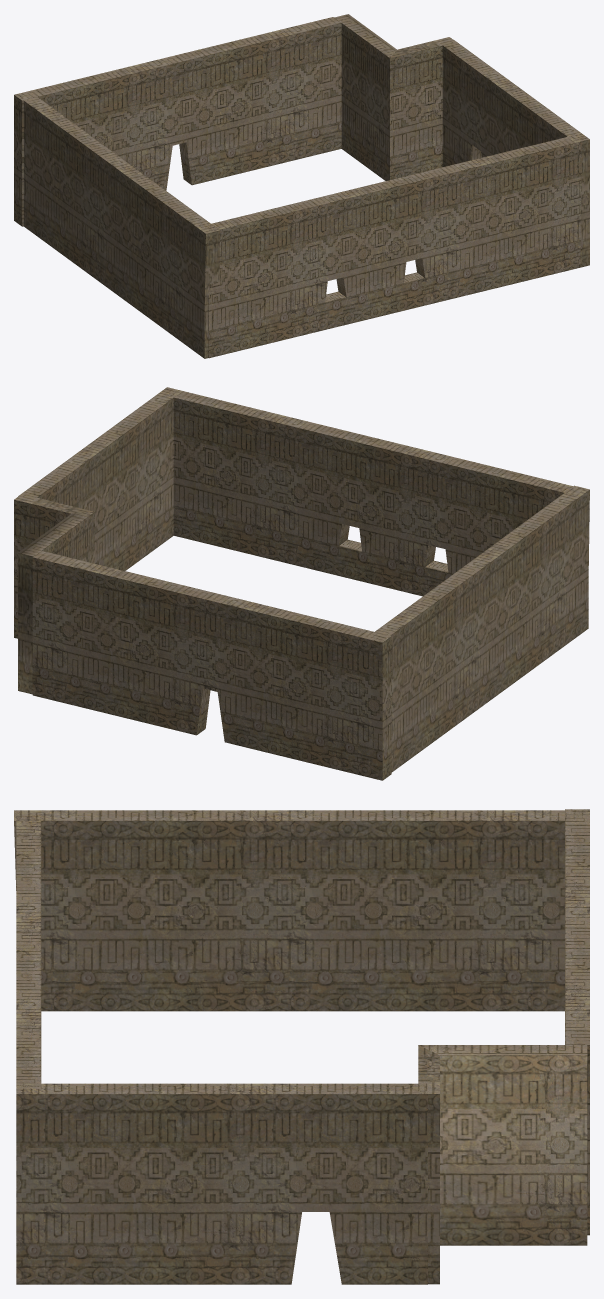
File: murs.FBX
3 views of the same model, one above another, from view 1: azimuth 30°, elevation 25°; view 2: azimuth 150°, elevation 25°; view 3: azimuth 270°, elevation 25° (orthographic). The views are drawn at different scales.
Parts seen in each view (by area): view 1: Box022, Box012, Box017, Box015, Box014, Object038; view 2: Box012, Box022, Box017, Box015, Box014, Object038; view 3: Box017, Box015, Box014, Box022, Box012, Object038.
Part boxes in pixels (<box>): Box022: <box>202,135,582,358</box>; Box012: <box>14,17,341,226</box>; Box017: <box>23,97,220,358</box>; Box015: <box>440,39,589,267</box>; Box014: <box>334,14,396,180</box>; Object038: <box>390,37,452,179</box>; Box012: <box>32,550,391,780</box>; Box022: <box>166,389,584,596</box>; Box017: <box>368,485,589,772</box>; Box015: <box>18,387,182,570</box>; Box014: <box>18,511,94,694</box>; Object038: <box>14,496,93,638</box>; Box017: <box>14,810,587,1011</box>; Box015: <box>16,1083,427,1284</box>; Box014: <box>419,1045,587,1245</box>; Box022: <box>16,813,41,1088</box>; Box012: <box>565,809,589,1235</box>; Object038: <box>418,1045,439,1284</box>.
Bounding box in the file's own units: 768 × 239 × 656.
1 material, 1 textured.
